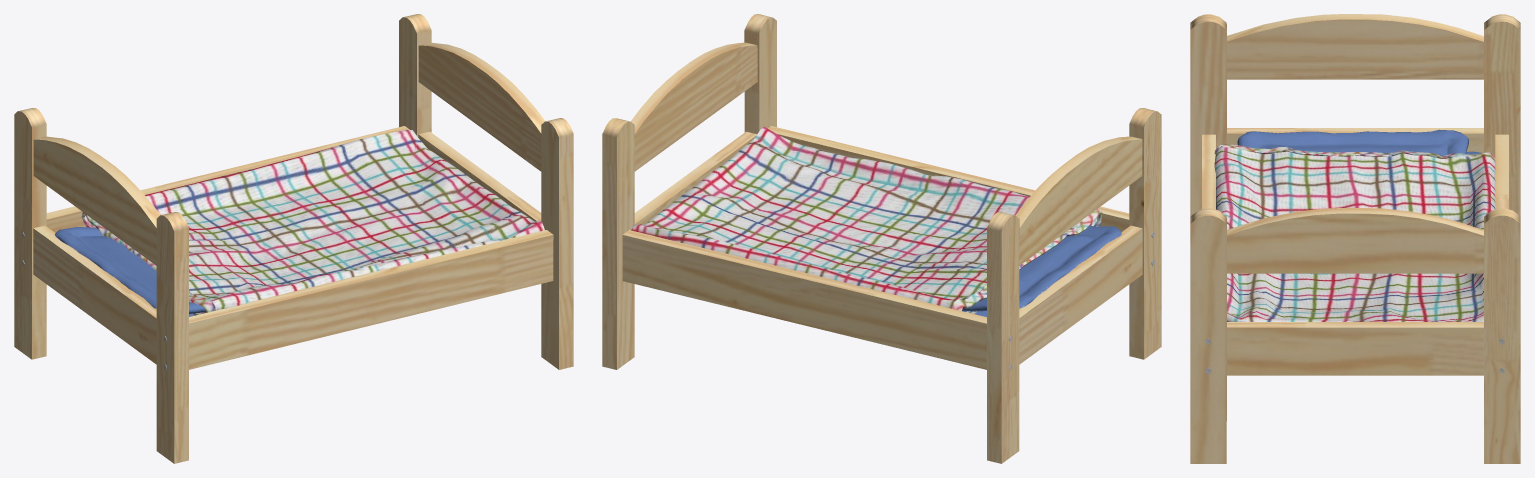
File: duktig_ozeczko_dla_lalek_50589224.glb
3 renders of one model, left to right at view 1: azimuth 30°, elevation 25°; view 2: azimuth 150°, elevation 25°; view 3: azimuth 270°, elevation 25°, orthographic. The views are drawn at different scales.
Visible parts, largest first — view 1: duktig_ozeczko_dla_lalek_50589224; view 2: duktig_ozeczko_dla_lalek_50589224; view 3: duktig_ozeczko_dla_lalek_50589224.
Boxes of the visible parts, x1=… form: duktig_ozeczko_dla_lalek_50589224: x1=14, y1=14, x2=573, y2=463; duktig_ozeczko_dla_lalek_50589224: x1=602, y1=14, x2=1161, y2=463; duktig_ozeczko_dla_lalek_50589224: x1=1190, y1=14, x2=1520, y2=463.
Size of the model in its own units: 0.5197 by 0.2998 by 0.36.
Materials: 1 (1 with a texture image).
